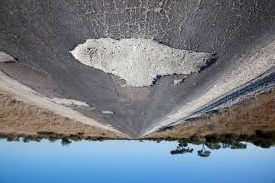pothole: (60, 28, 222, 95), (0, 42, 18, 69), (52, 96, 89, 109), (98, 108, 115, 115)
